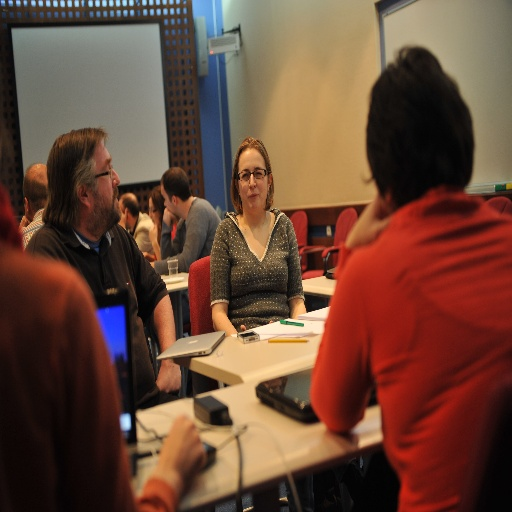hand: (142, 406, 215, 496), (344, 189, 391, 247), (153, 358, 182, 393), (161, 204, 178, 227), (147, 222, 158, 244), (117, 207, 127, 227), (16, 214, 29, 228), (240, 323, 246, 331)
